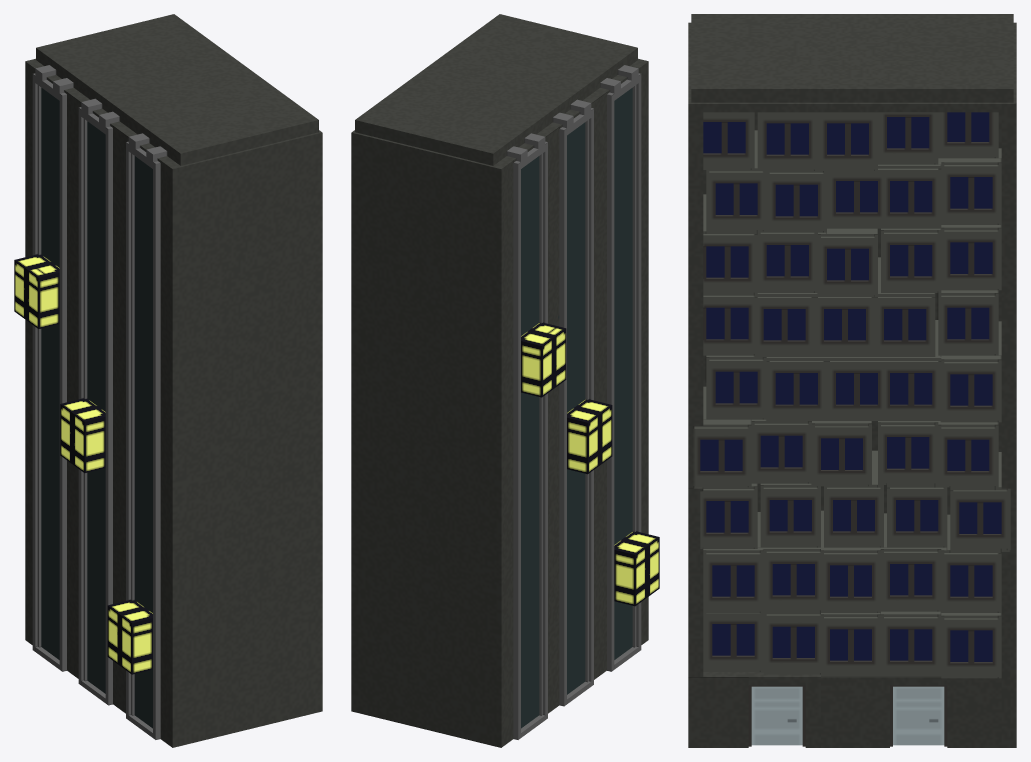
File: budynek_big_008.dae
3 views of the same model, side by side, from view 1: azimuth 30°, elevation 25°; view 2: azimuth 150°, elevation 25°; view 3: azimuth 270°, elevation 25° (orthographic). The views are drawn at different scales.
Visible parts, largest first — view 1: Content; view 2: Content; view 3: Content.
Boxes of the visible parts, x1,y1,x2,y2 form: Content: [14, 14, 322, 747]; Content: [351, 14, 659, 747]; Content: [688, 14, 1016, 747].
Bounding box in the file's own units: 77 × 241 × 109.
1 material, 1 textured.
